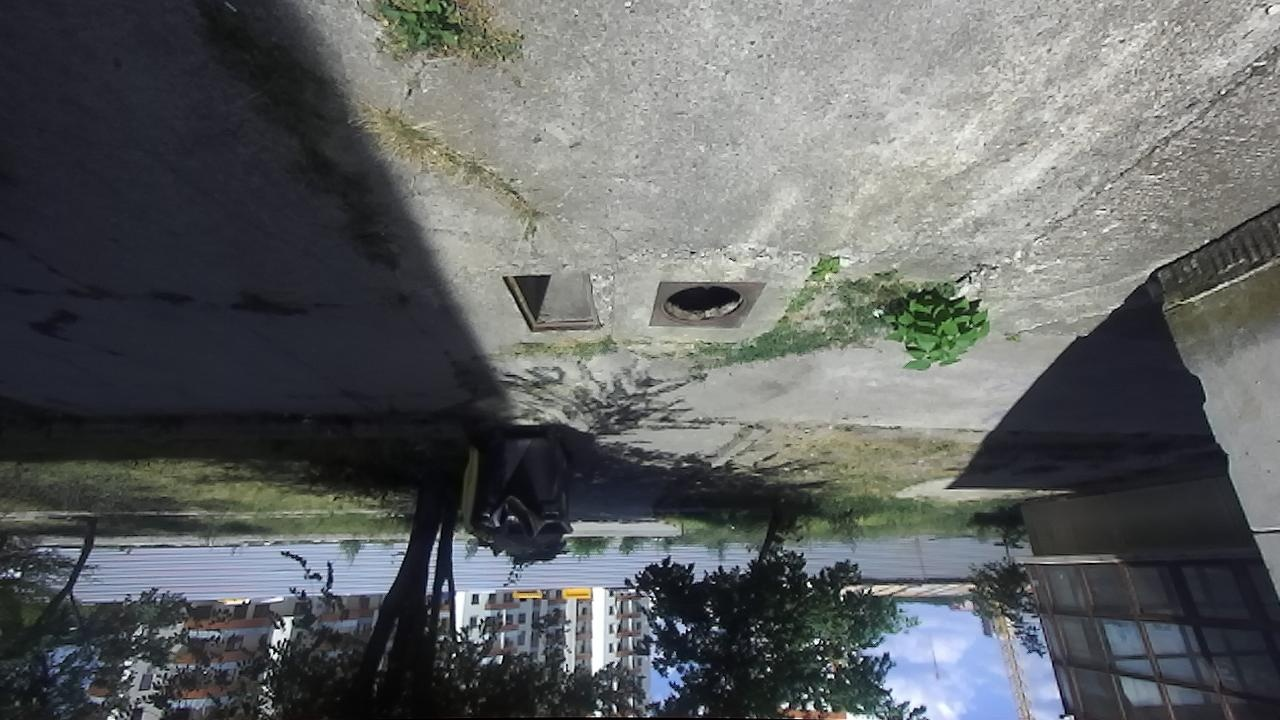drain: (500, 270, 605, 338), (660, 283, 749, 326)
